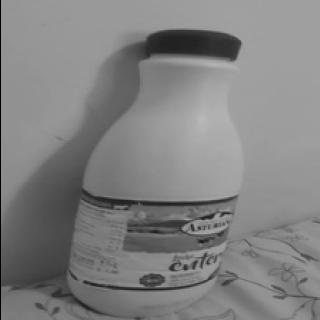plastic_bottles: (74, 31, 245, 320)
